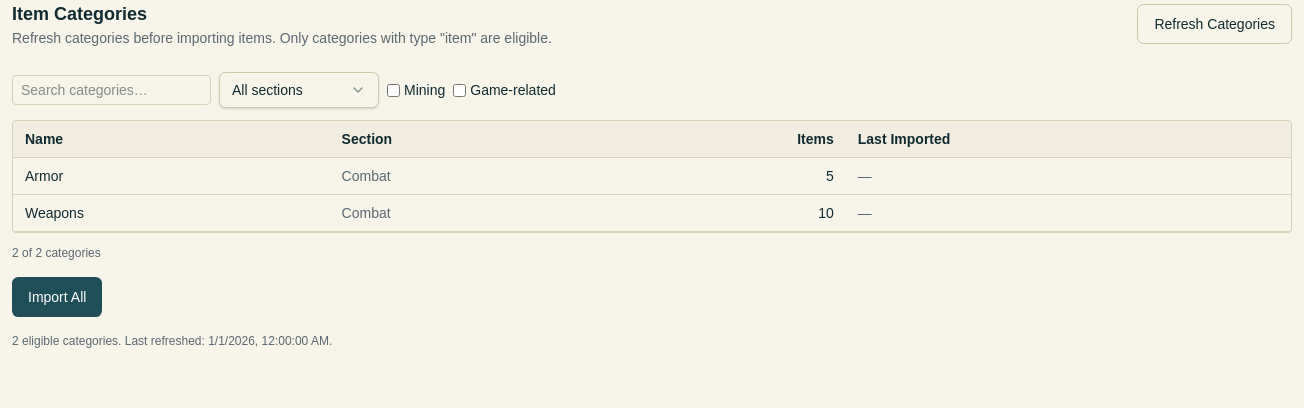
Test: ItemsImportTab › sends import request when button clicked
The image size is (1304, 408).
Step 1. Click the button "Import All" → {"x": 57, "y": 297}, box [12,277,102,317]
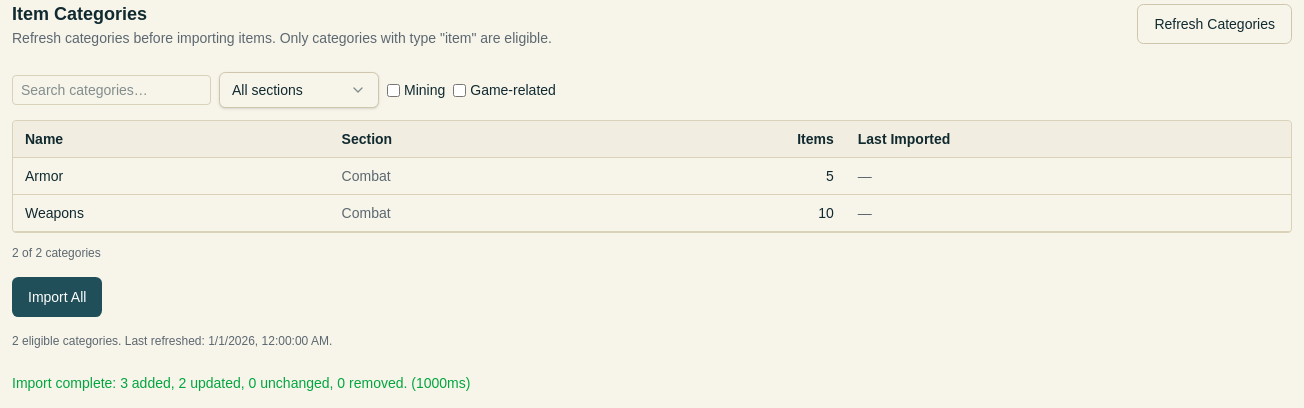
Expected: the message shows "3 added", [12,375,470,391]
